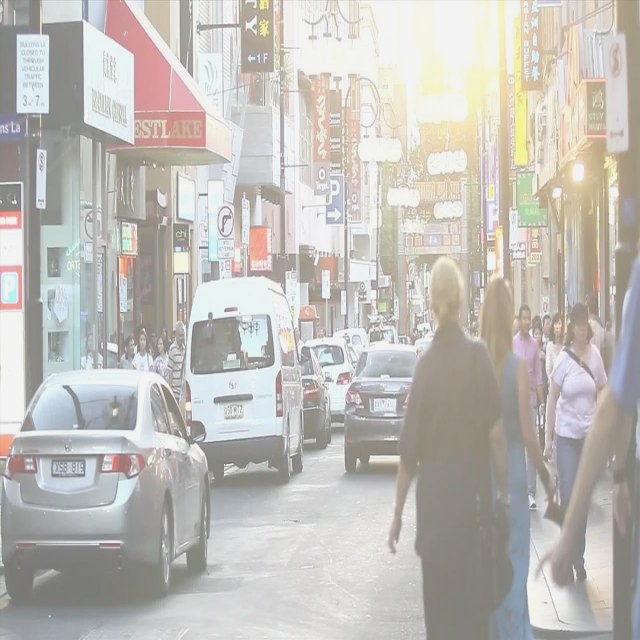pessoa: (384, 250, 518, 640), (530, 239, 640, 639), (478, 276, 558, 640), (540, 298, 614, 592), (512, 302, 546, 512), (531, 318, 549, 456), (167, 319, 187, 406), (544, 311, 564, 388), (585, 294, 607, 354), (152, 332, 170, 386), (132, 328, 154, 370), (79, 332, 103, 369), (132, 330, 154, 370), (120, 334, 136, 371), (540, 312, 553, 354), (462, 316, 480, 338), (411, 324, 428, 346), (160, 324, 172, 352), (149, 330, 159, 356), (368, 326, 384, 342), (511, 315, 520, 333), (119, 332, 124, 354), (168, 330, 176, 340)
